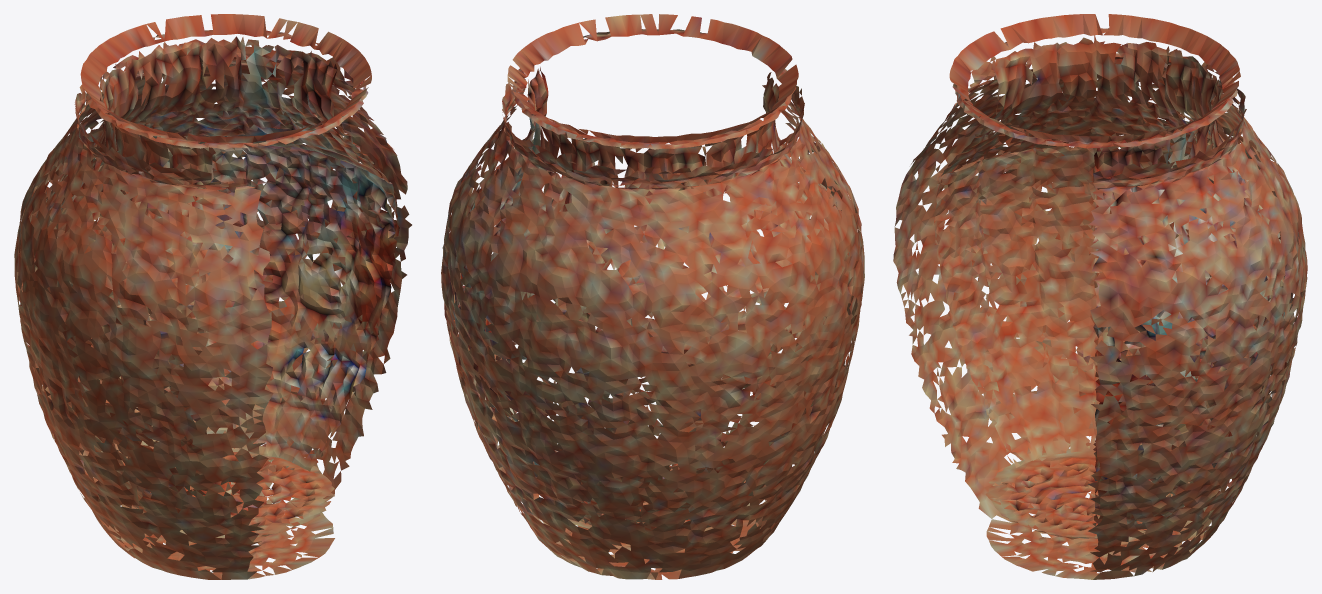
The model's file is vase2_final500.obj.
3 renders of one model, left to right at view 1: azimuth 30°, elevation 25°; view 2: azimuth 150°, elevation 25°; view 3: azimuth 270°, elevation 25°, orthographic.
Size of the model in its own units: 1.43 by 1.73 by 1.4.
